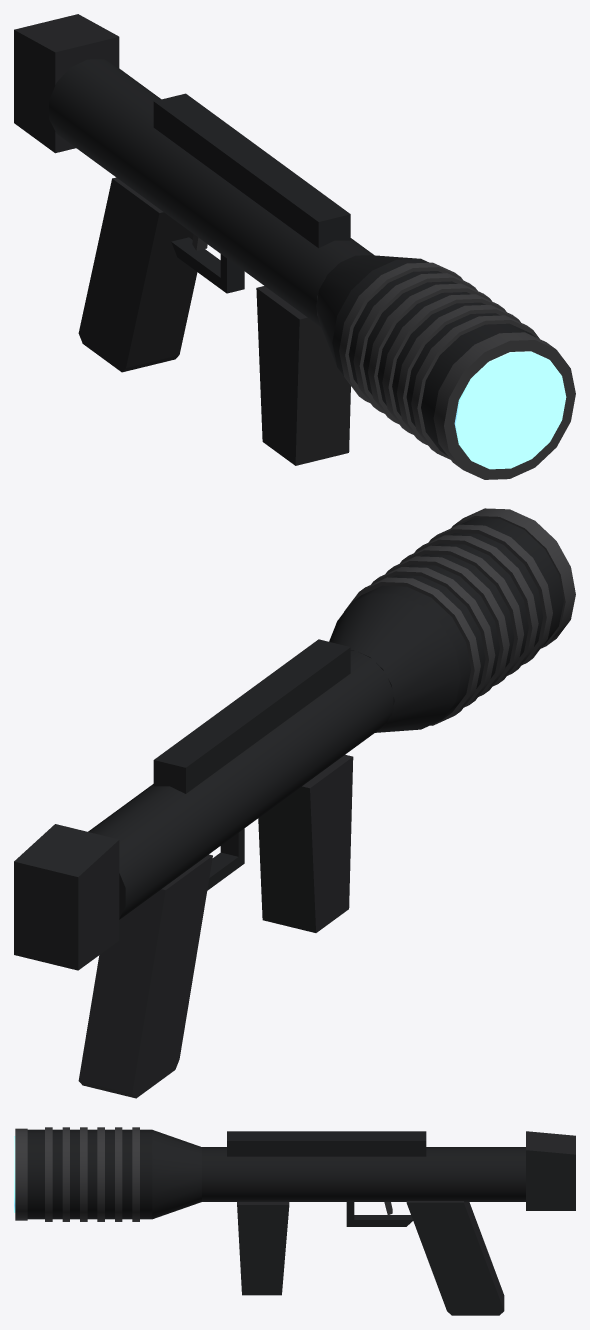
Rendered from lumen-405.glb.
3 renders of one model, top to bottom at view 1: azimuth 30°, elevation 25°; view 2: azimuth 150°, elevation 25°; view 3: azimuth 270°, elevation 25°, orthographic. The views are drawn at different scales.
Parts seen in each view (by area): view 1: lumen-405; view 2: lumen-405; view 3: lumen-405.
Boxes of the visible parts, x1,y1,x2,y2 form: lumen-405: (14,14,575,479); lumen-405: (14,508,575,1098); lumen-405: (14,1127,575,1315).
Bounding box in the file's own units: 0.076 × 0.156 × 0.451.
Materials: 1 (1 with a texture image).
